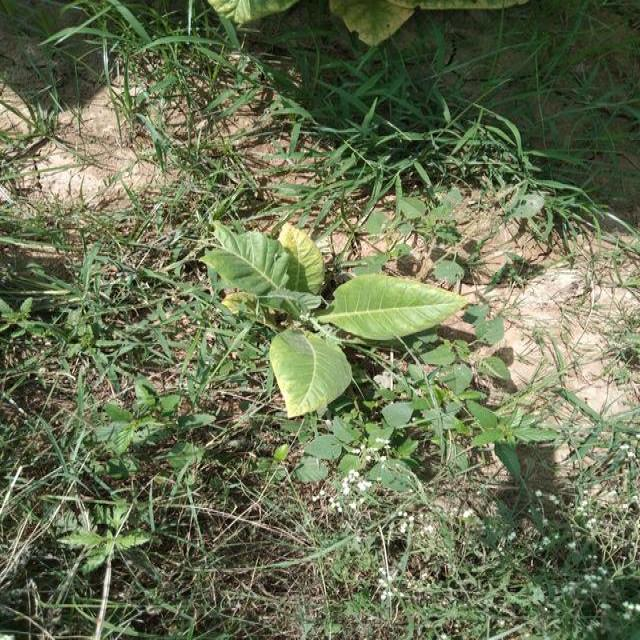crop: (202, 215, 449, 425), (326, 0, 409, 48)
